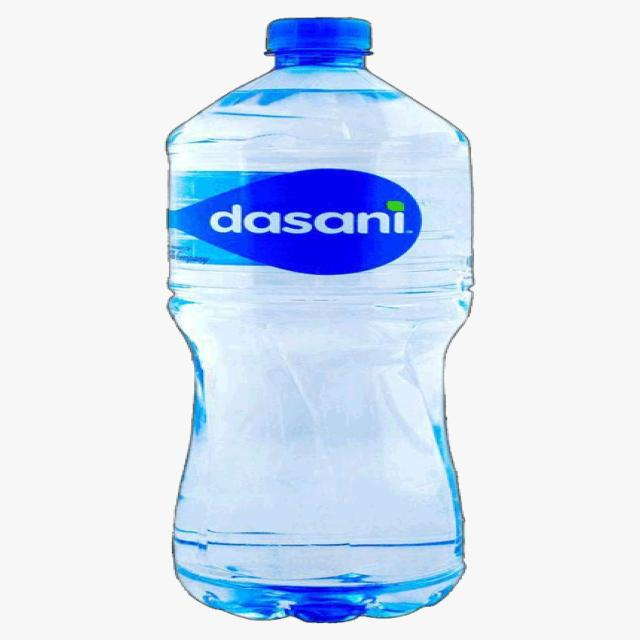bottle: (157, 16, 490, 628)
